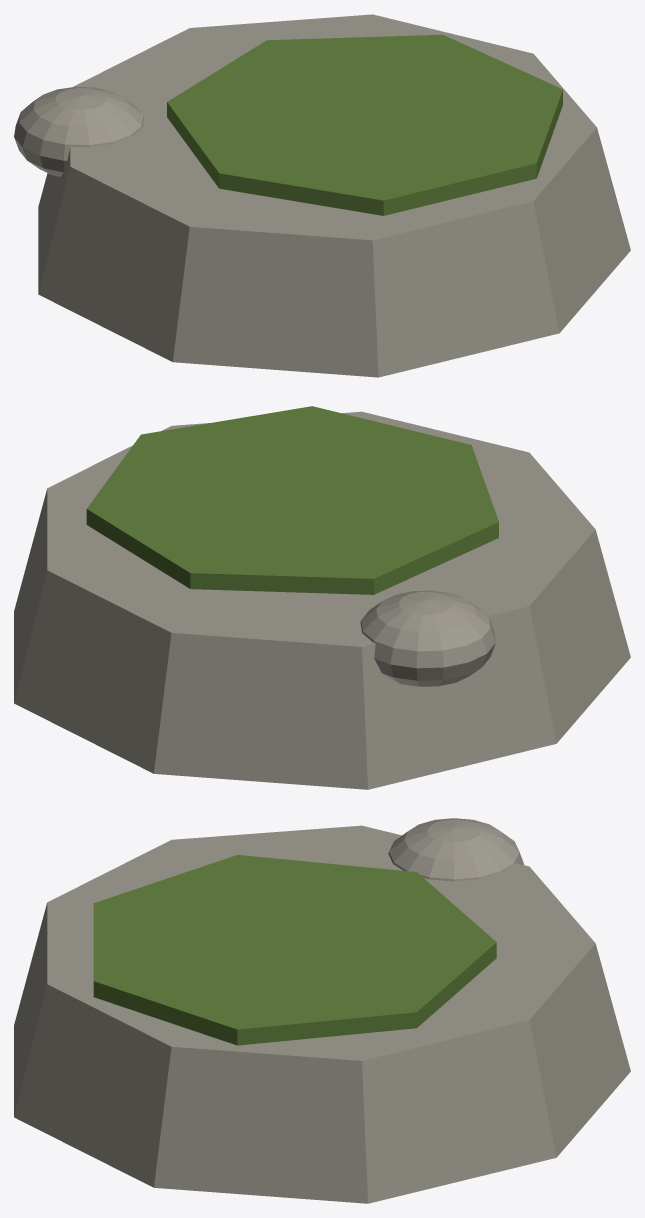
The model's file is stepping-stone-lod0.glb.
The picture shows the model from 3 angles, top to bottom: view 1: azimuth 30°, elevation 25°; view 2: azimuth 150°, elevation 25°; view 3: azimuth 270°, elevation 25°; orthographic projection. The views are drawn at different scales.
Parts seen in each view (by area): view 1: stepping-stone; view 2: stepping-stone; view 3: stepping-stone.
Boxes of the visible parts, bbox=[...] form: stepping-stone: bbox=[14, 14, 630, 377]; stepping-stone: bbox=[14, 406, 630, 789]; stepping-stone: bbox=[14, 818, 630, 1203].
Bounding box in the file's own units: 0.8863 × 0.24 × 0.8729.
